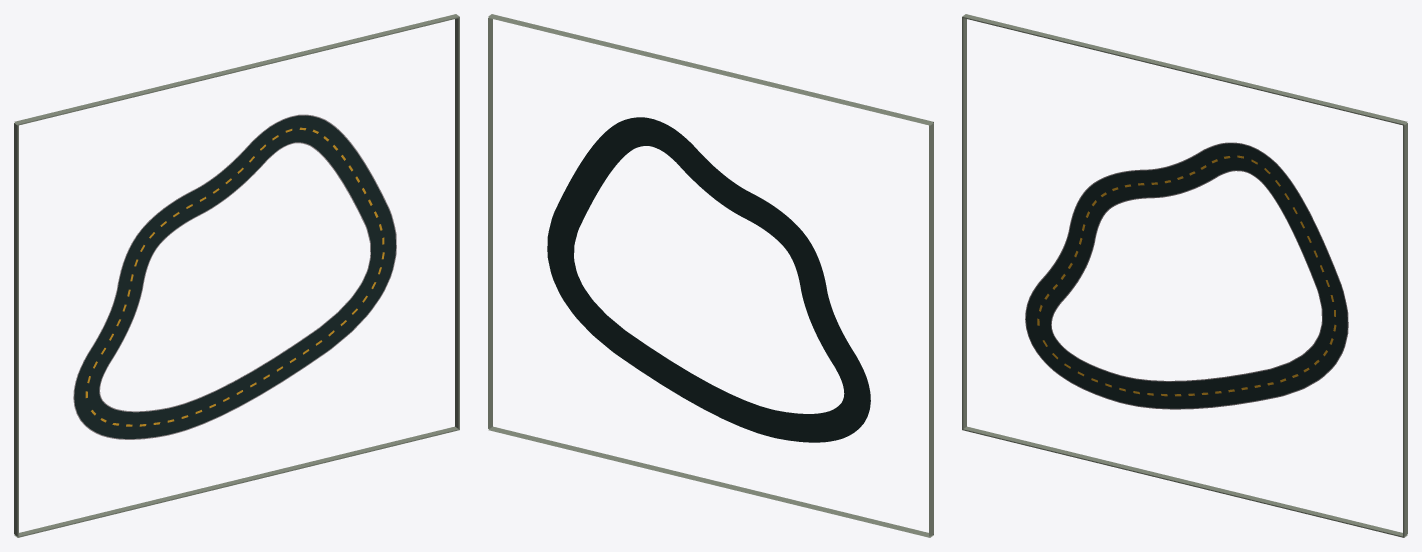
The model's file is track.obj.
3 renders of one model, left to right at view 1: azimuth 30°, elevation 25°; view 2: azimuth 150°, elevation 25°; view 3: azimuth 330°, elevation 25°, orthographic.
Bounding box in the file's own units: 20.49 × 18.3 × 0.3.
4 materials, 4 textured.
